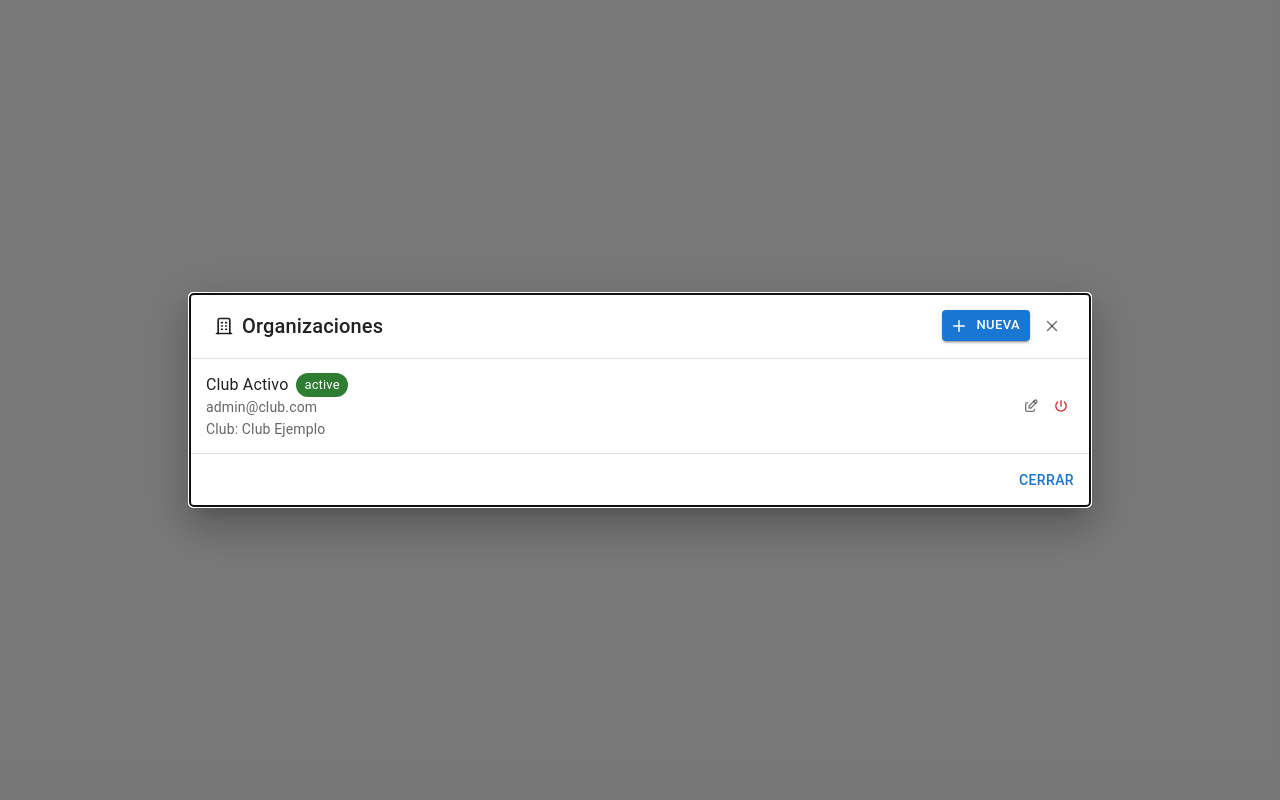
Test: OrganizationsDialog › abre el diálogo de edición con el nombre actual al hacer click en TbEdit
Expected: the text "Club Activo" is shown, [206, 375, 288, 394]
// Edit button is the first icon button in the list item (before the power button)
Click the button named "Editar organización" at (1031, 406), box [1018, 393, 1044, 419]
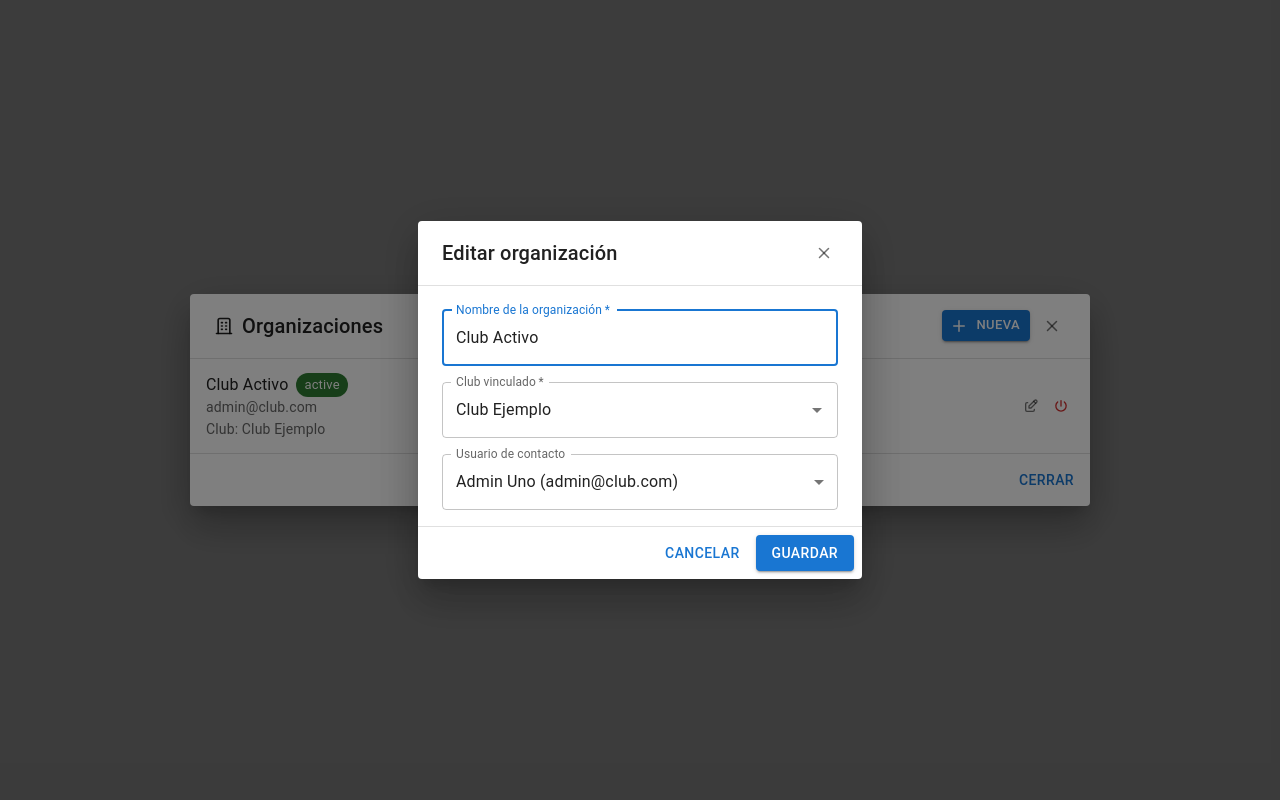
Now the text "Editar organización" is shown, box [442, 237, 838, 269]
Now the field showing "Club Activo" is shown, box [442, 310, 838, 366]
